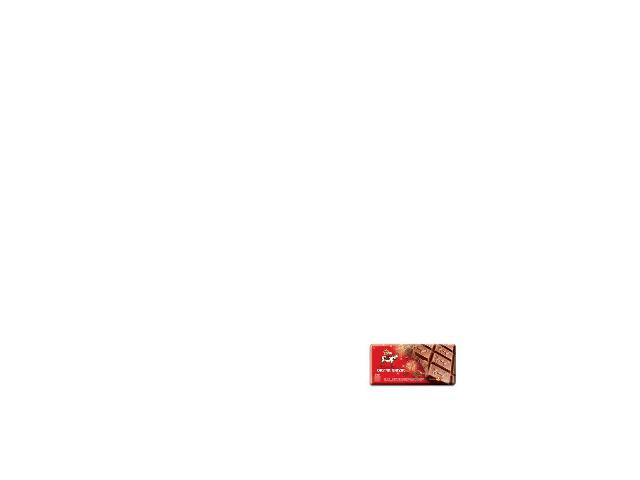chocolate: (368, 342, 457, 387)
